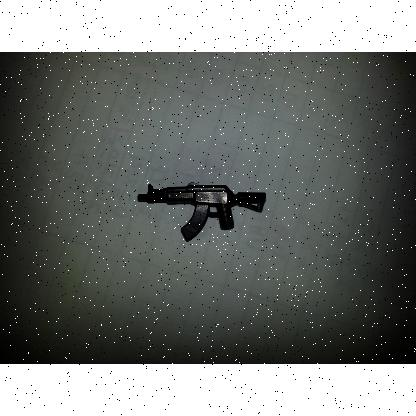gun: (138, 176, 242, 246)
